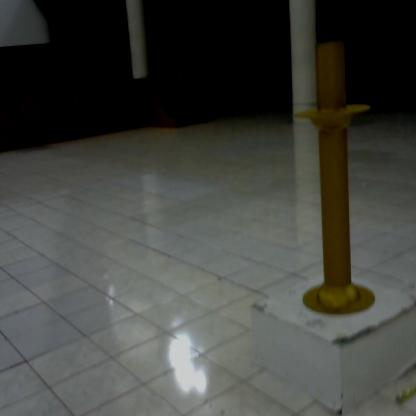pole: (283, 33, 384, 323)
